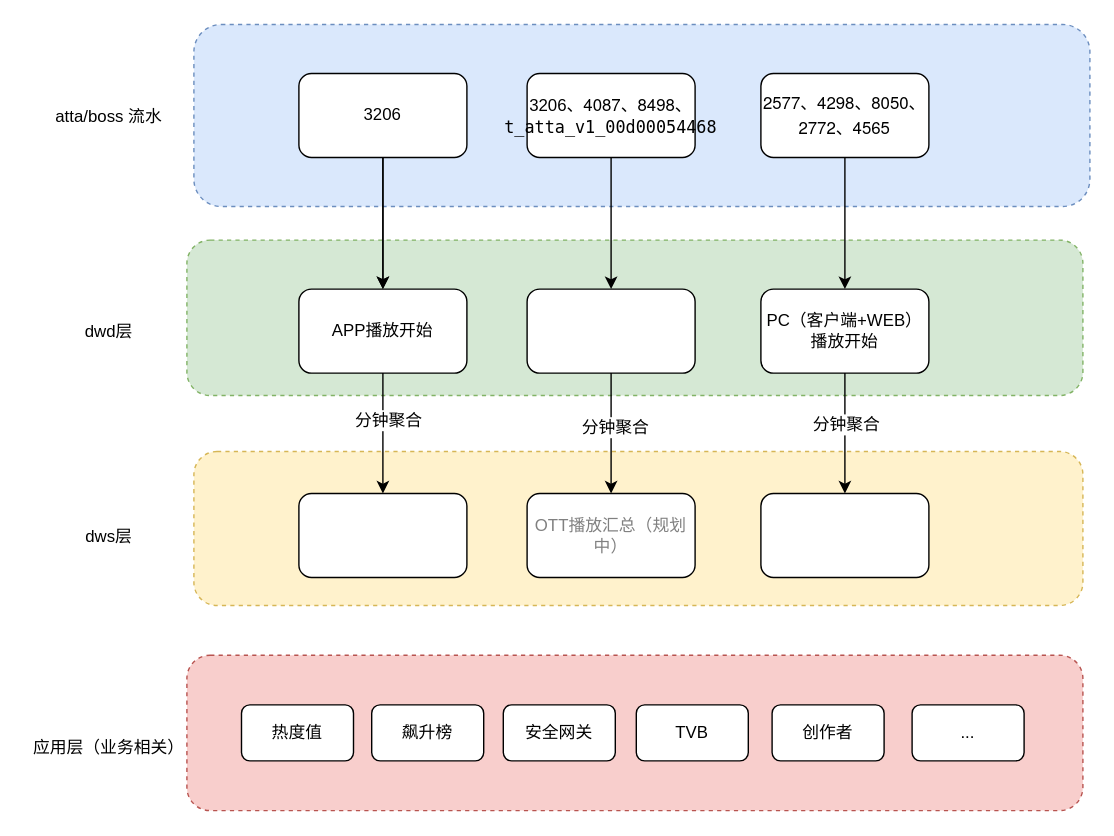
Some shapes in this 1114 by 836 pixel diagram are drawn without their labels. Each missing label, with the centre of its shape:
"APP播放汇总" goes at (x=382, y=535).
"OTT播放开始" goes at (x=610, y=330).
"PC播放汇总（规划中）" goes at (x=844, y=535).
